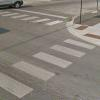Crosswalk: (19, 11, 92, 94)
